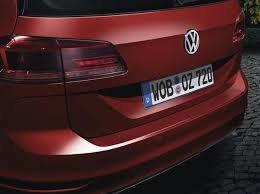license-plates: (143, 66, 213, 108)
